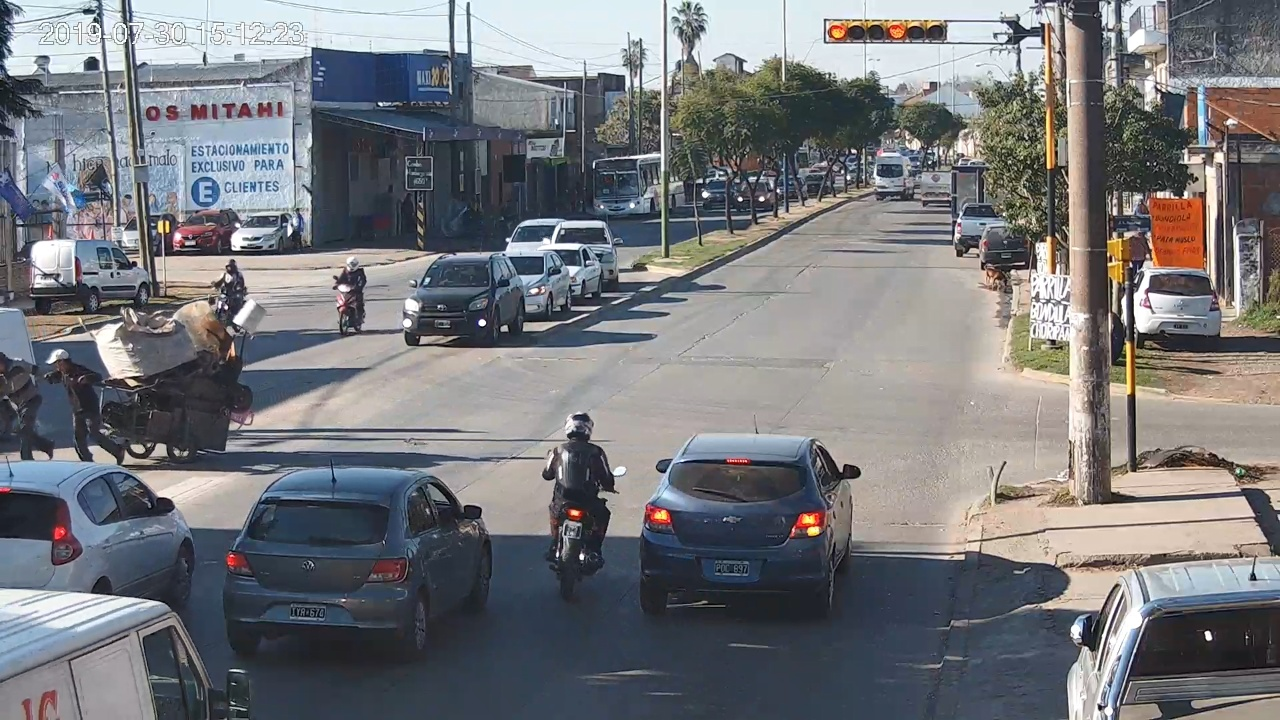car: (222, 465, 494, 655), (639, 433, 861, 612)
front car: (402, 253, 525, 347)
front motorcycle: (332, 270, 367, 334)
motorcycle: (541, 462, 627, 597)
traffic light: (828, 18, 947, 43)
